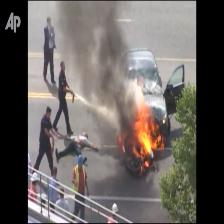fire: (118, 99, 177, 174)
smoke: (55, 0, 144, 121)
